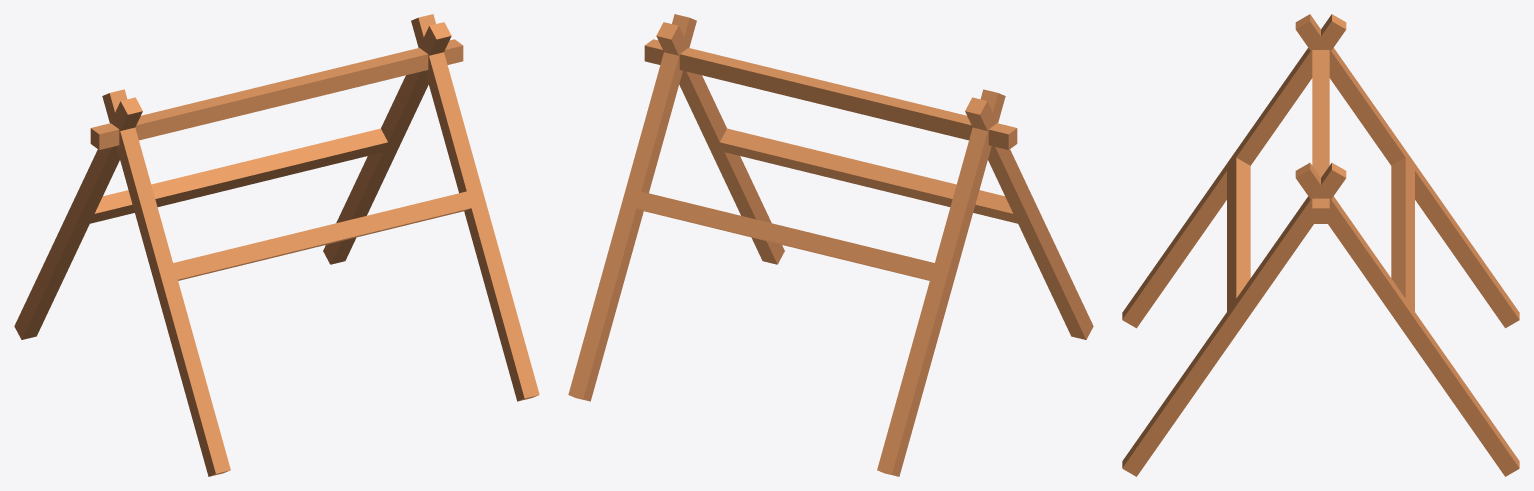
Rendered from tent.dae.
The picture shows the model from 3 angles, left to right: view 1: azimuth 30°, elevation 25°; view 2: azimuth 150°, elevation 25°; view 3: azimuth 270°, elevation 25°; orthographic projection.
Parts seen in each view (by area): view 1: tent; view 2: tent; view 3: tent.
Part boxes in pixels (<box>): tent: <box>14,14,539,476</box>; tent: <box>568,14,1093,476</box>; tent: <box>1122,14,1519,476</box>.
Bounding box in the file's own units: 2.25 × 1.84 × 2.16.
